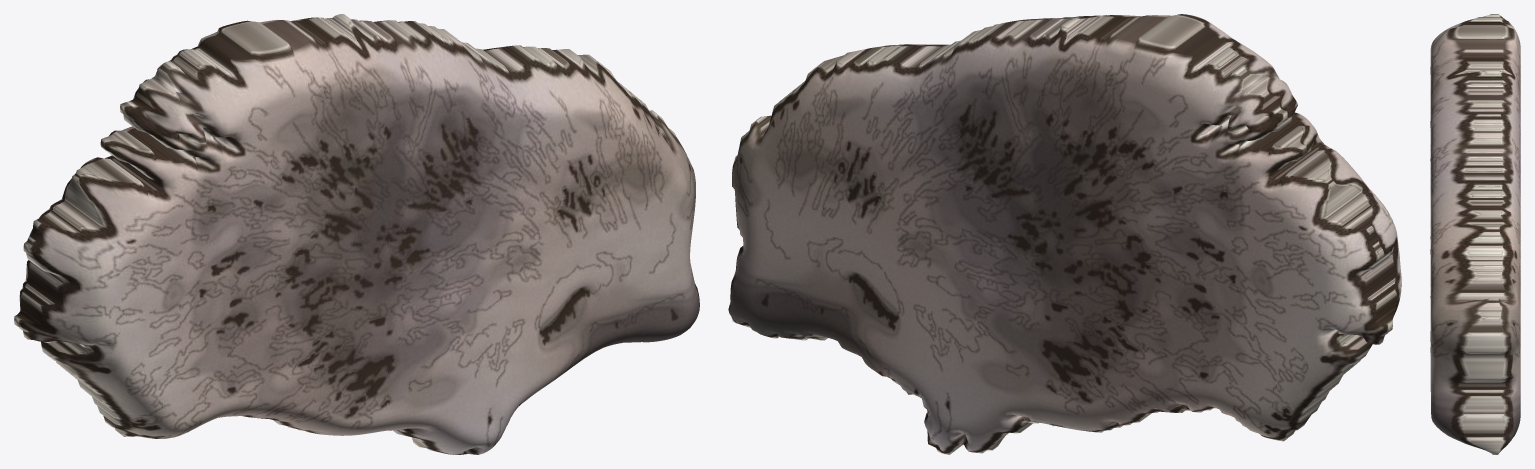
The model's file is hedgehog_203070926.glb.
3 renders of one model, left to right at view 1: azimuth 30°, elevation 25°; view 2: azimuth 150°, elevation 25°; view 3: azimuth 270°, elevation 25°, orthographic. The views are drawn at different scales.
Parts seen in each view (by area): view 1: hedgehog_203070926; view 2: hedgehog_203070926; view 3: hedgehog_203070926.
Part boxes in pixels (x1=…): hedgehog_203070926: x1=14, y1=14, x2=699, y2=454; hedgehog_203070926: x1=728, y1=14, x2=1401, y2=454; hedgehog_203070926: x1=1430, y1=14, x2=1520, y2=454.
Bounding box in the file's own units: 1.97 × 1.34 × 0.3297.
1 material, 1 textured.
